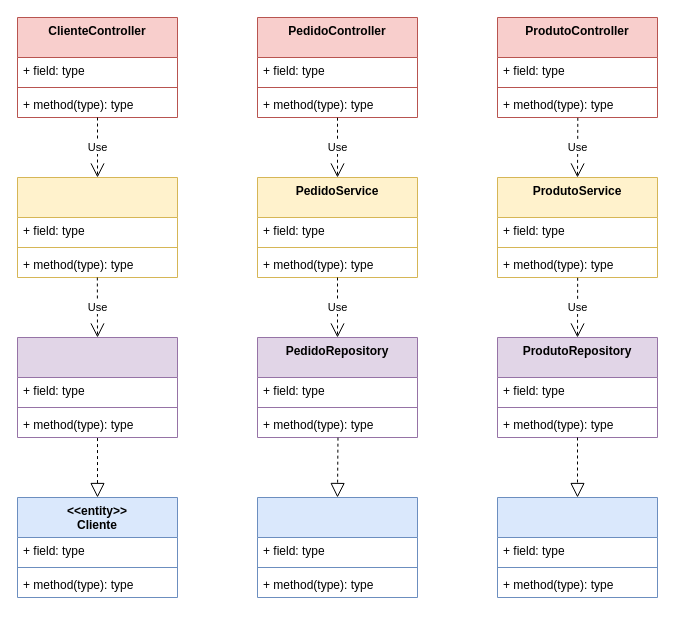
This 675x618 diagram has some shape labels left out. Here are the shapes that lost their labels. From the top down, the box of each, then its label:
(16, 176, 178, 278): ClienteService
(16, 336, 178, 438): ClienteRepository
(256, 496, 418, 598): <<entity >> Pedido
(496, 496, 658, 598): <<entity>> Produto
